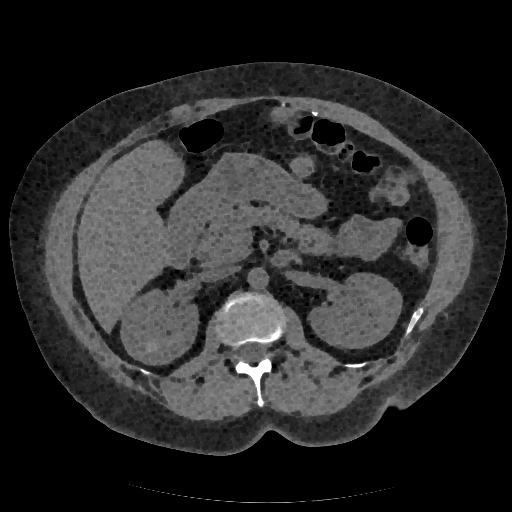Lesion: (143, 336, 163, 356)
